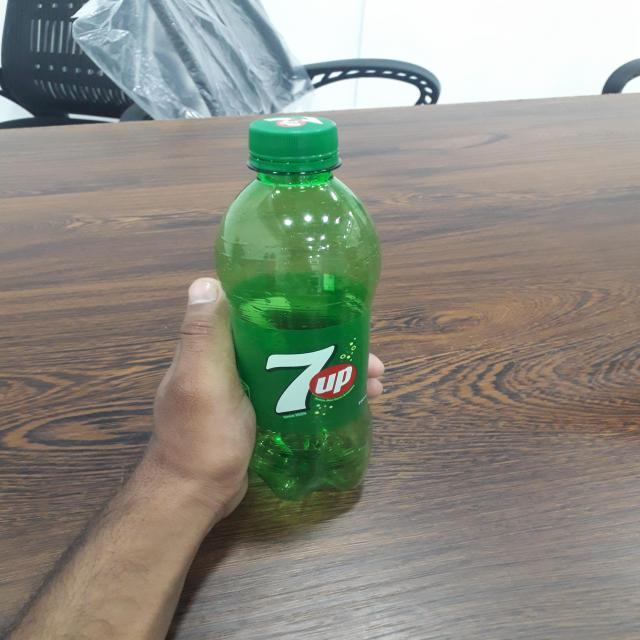bottle-plastic: (214, 114, 384, 508)
